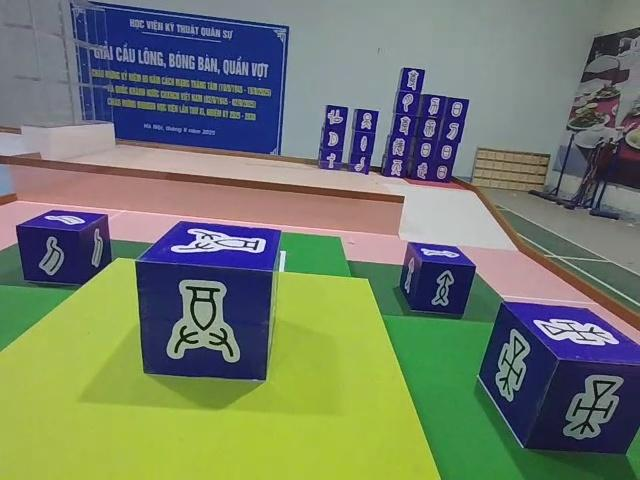R2 Real Blue: (481, 304, 640, 459), (135, 217, 280, 386), (16, 212, 113, 291), (397, 242, 476, 318)
